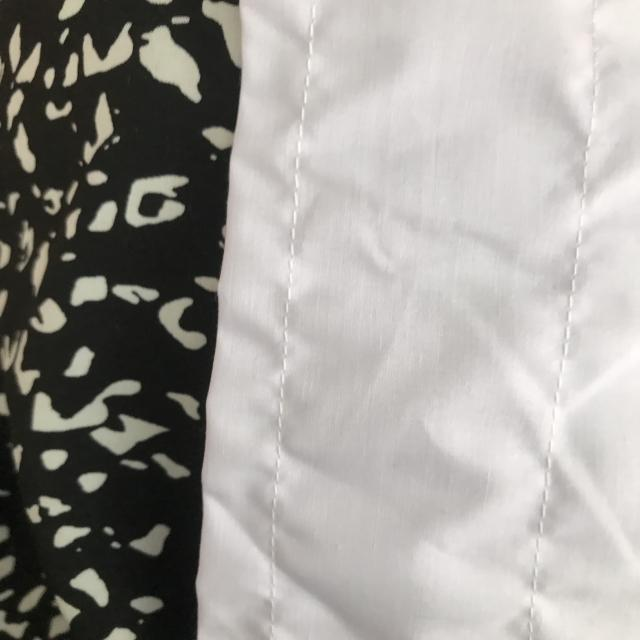good: (269, 368, 292, 465)
